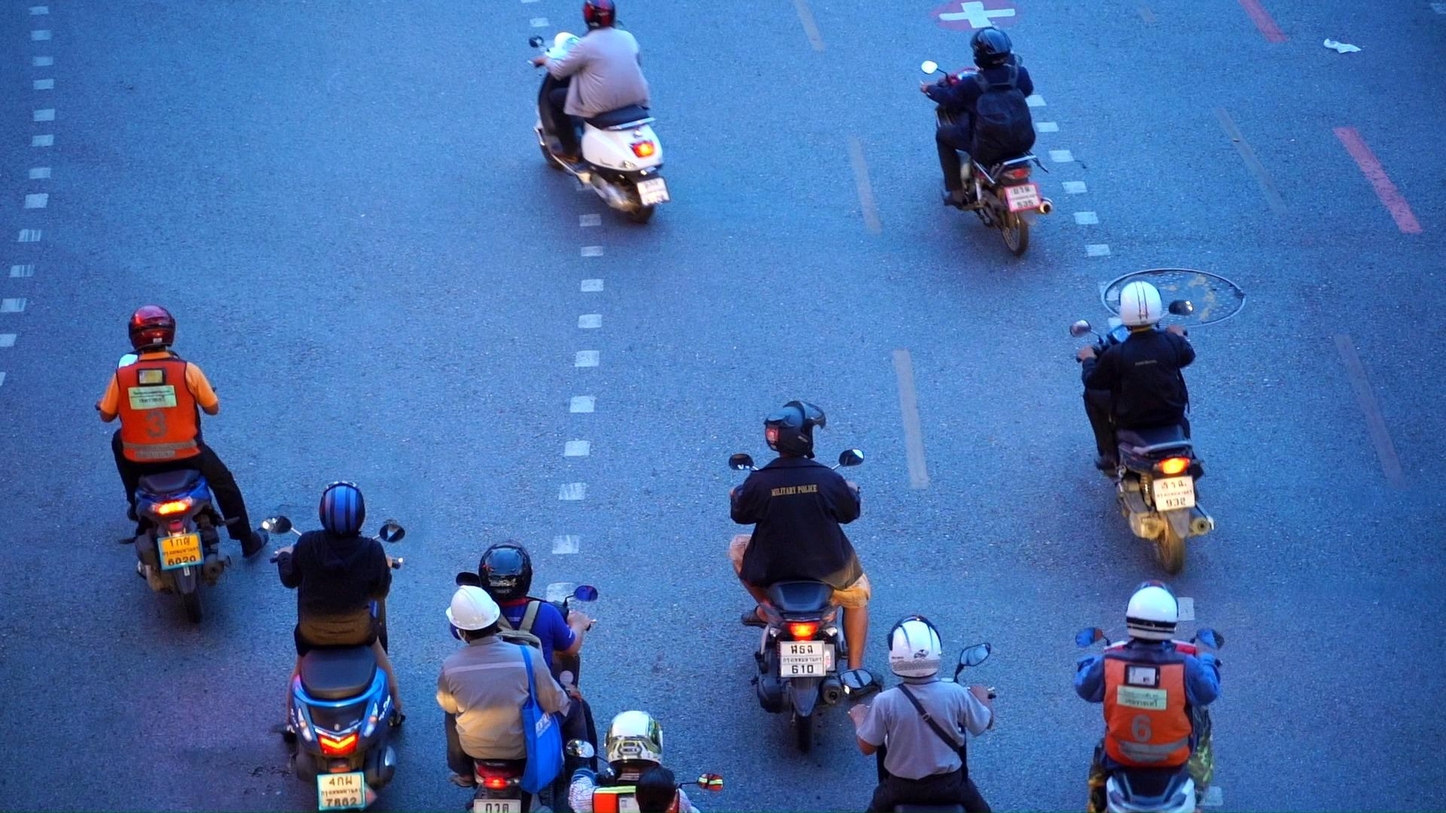driver: (727, 399, 886, 754), (95, 305, 267, 625), (261, 480, 406, 813), (435, 539, 597, 813), (1069, 280, 1216, 578), (1075, 580, 1226, 813), (529, 0, 672, 225), (839, 613, 995, 813), (919, 27, 1053, 257), (565, 709, 724, 813)
helmet: (604, 709, 664, 774), (763, 399, 826, 459), (886, 614, 943, 679), (1125, 580, 1179, 644), (446, 584, 501, 646), (479, 539, 532, 602), (319, 480, 366, 537), (1118, 279, 1163, 331), (128, 304, 176, 352), (969, 26, 1013, 72), (581, 0, 616, 32)
no-helmet: (634, 766, 678, 813)
